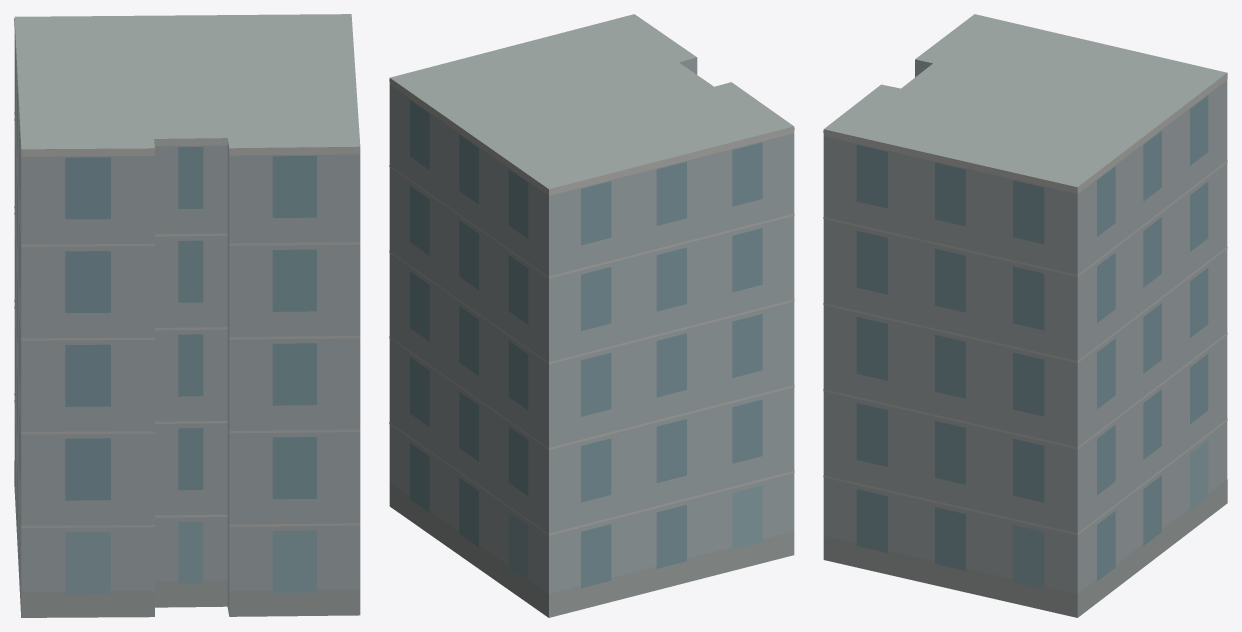
The model's file is survey-upis-32811953.glb.
The picture shows the model from 3 angles, left to right: view 1: azimuth 30°, elevation 25°; view 2: azimuth 150°, elevation 25°; view 3: azimuth 270°, elevation 25°; orthographic projection. The views are drawn at different scales.
Visible parts, largest first — view 1: survey-upis-32811953.tmp; view 2: survey-upis-32811953.tmp; view 3: survey-upis-32811953.tmp.
Part boxes in pixels (x1,y1,x2,y2): survey-upis-32811953.tmp: [14, 14, 360, 617]; survey-upis-32811953.tmp: [389, 14, 794, 617]; survey-upis-32811953.tmp: [823, 14, 1227, 617].
Bounding box in the file's own units: 13.31 × 15.4 × 13.11.
